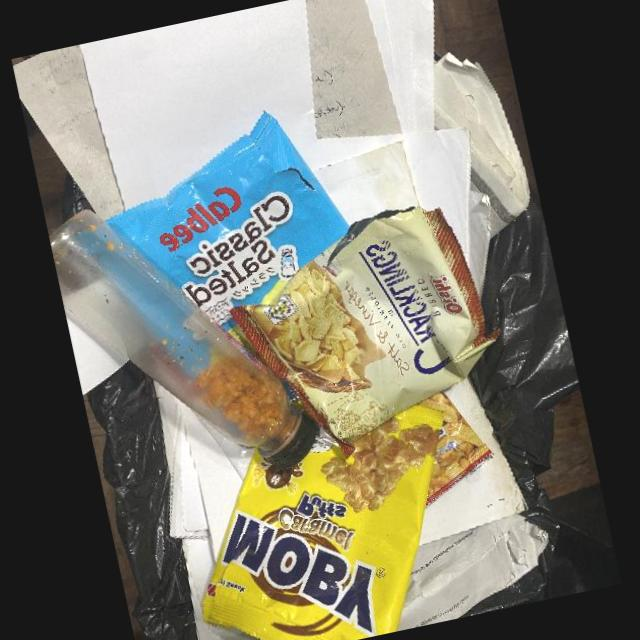bao_bi_thuc_pham: (71, 111, 413, 436), (228, 206, 500, 460), (201, 404, 445, 640), (414, 390, 494, 509)
chai_nhua: (49, 216, 317, 470)
giay: (79, 0, 327, 225), (180, 513, 549, 640), (316, 128, 470, 268), (416, 376, 526, 545), (312, 139, 419, 225)
